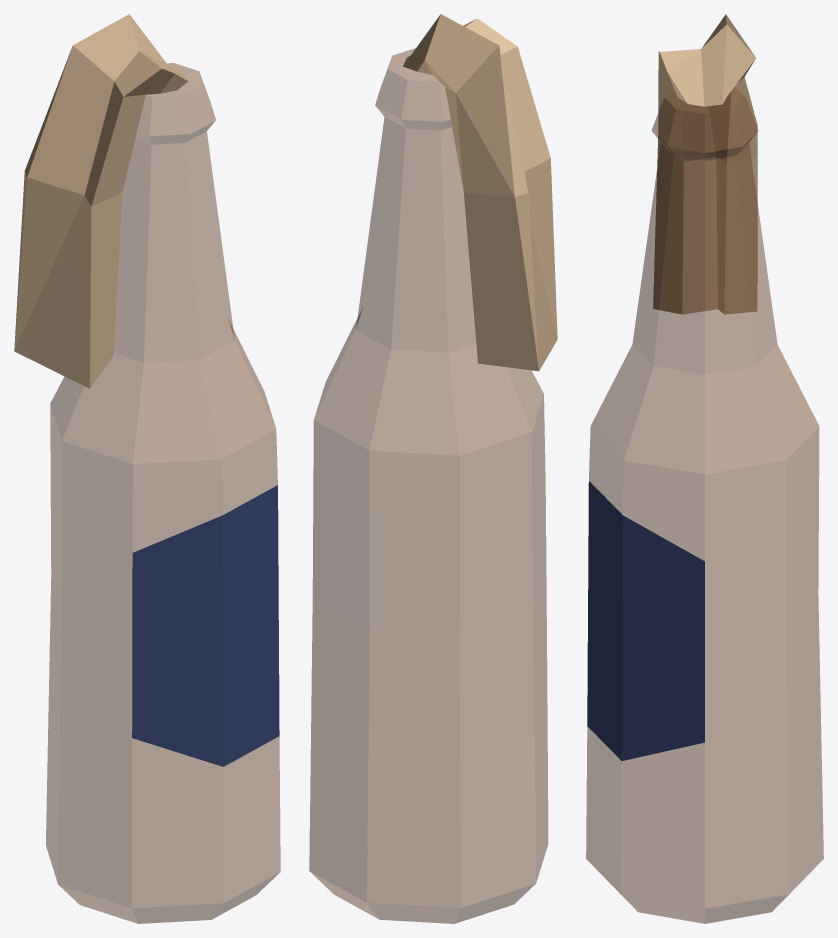
File: weapons-molotov.glb
3 renders of one model, left to right at view 1: azimuth 30°, elevation 25°; view 2: azimuth 150°, elevation 25°; view 3: azimuth 270°, elevation 25°, orthographic. The views are drawn at different scales.
Parts seen in each view (by area): view 1: SM_Molotov; view 2: SM_Molotov; view 3: SM_Molotov.
Part boxes in pixels (x1,y1,x2,y2): SM_Molotov: (14, 14, 280, 923); SM_Molotov: (309, 14, 557, 923); SM_Molotov: (586, 14, 823, 923).
Size of the model in its own units: 0.0802 by 0.2843 by 0.0722.
